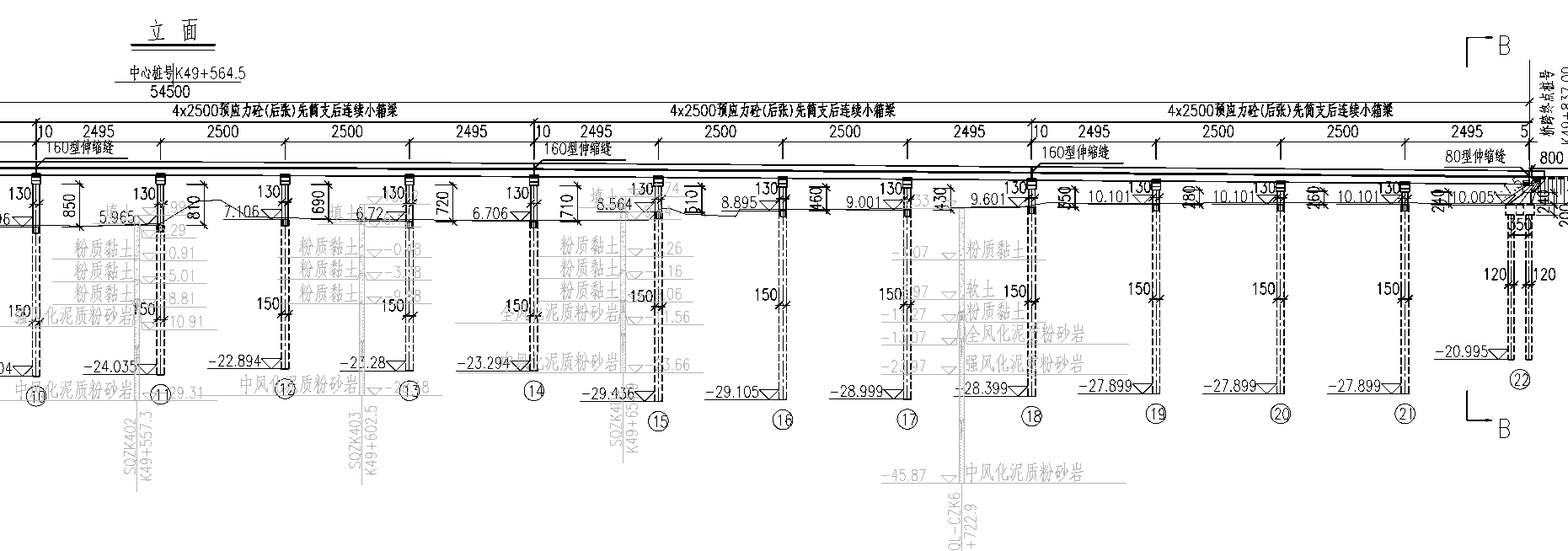B: (16, 95, 533, 131)
C: (829, 169, 928, 435), (704, 169, 802, 436), (1076, 174, 1175, 433), (1201, 179, 1302, 432), (1325, 175, 1421, 431), (586, 168, 677, 436), (1426, 188, 1544, 393), (957, 170, 1049, 432), (83, 167, 179, 411), (209, 167, 303, 405), (458, 170, 551, 409), (340, 169, 429, 406), (1, 169, 51, 409)
